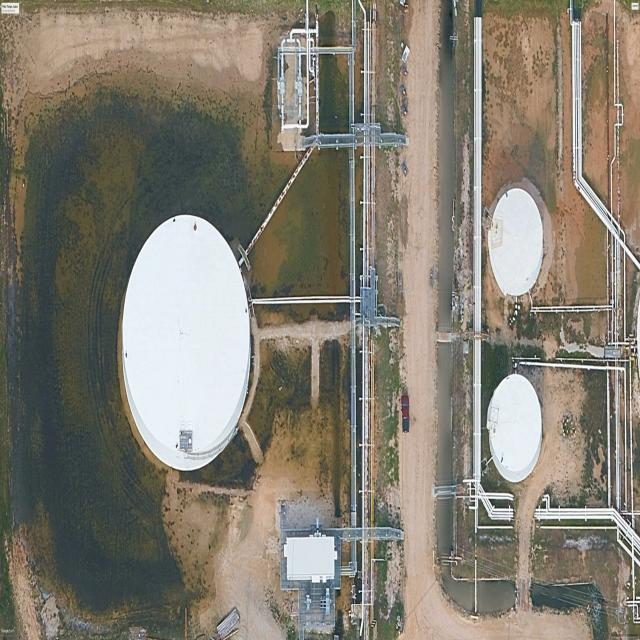Oil Rafinery: (121, 215, 251, 470), (487, 374, 542, 483), (488, 188, 543, 296)
